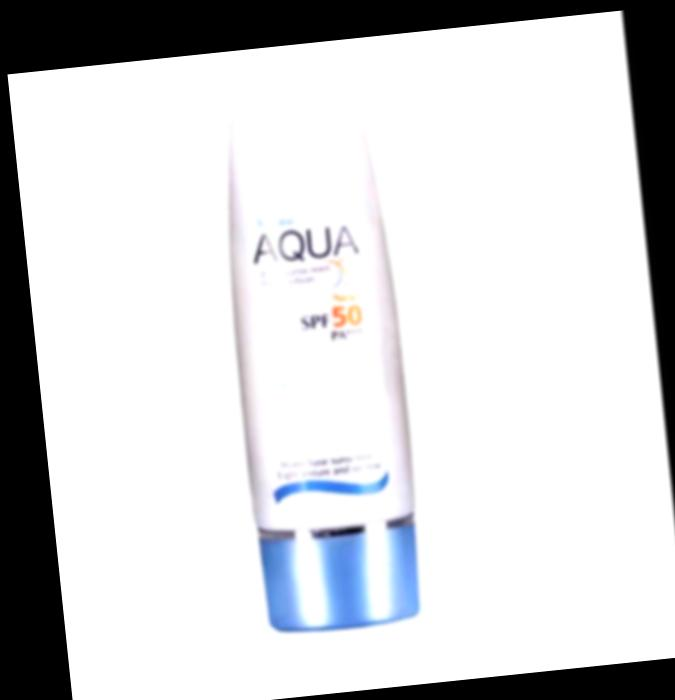cosmetic: (211, 97, 436, 635)
